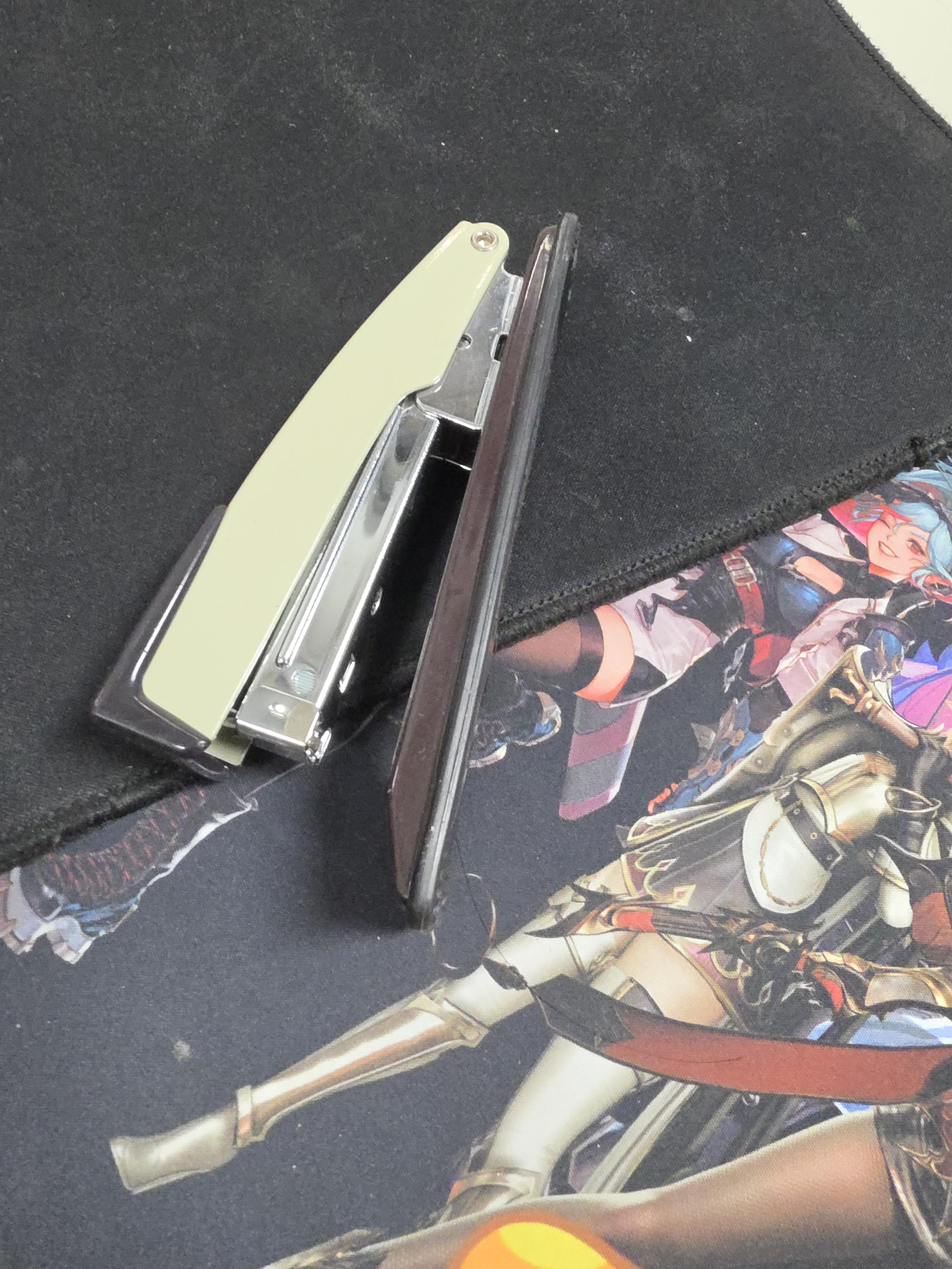stapler: (90, 213, 579, 931)
